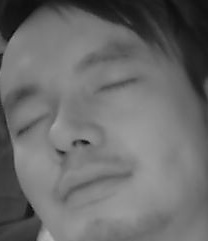blink: (13, 109, 54, 137), (93, 74, 138, 98)
mouth: (52, 162, 132, 207)
